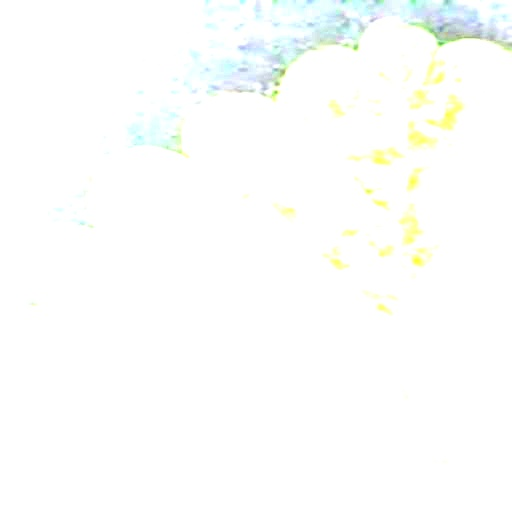Angular Leafspot: (181, 17, 511, 331)
